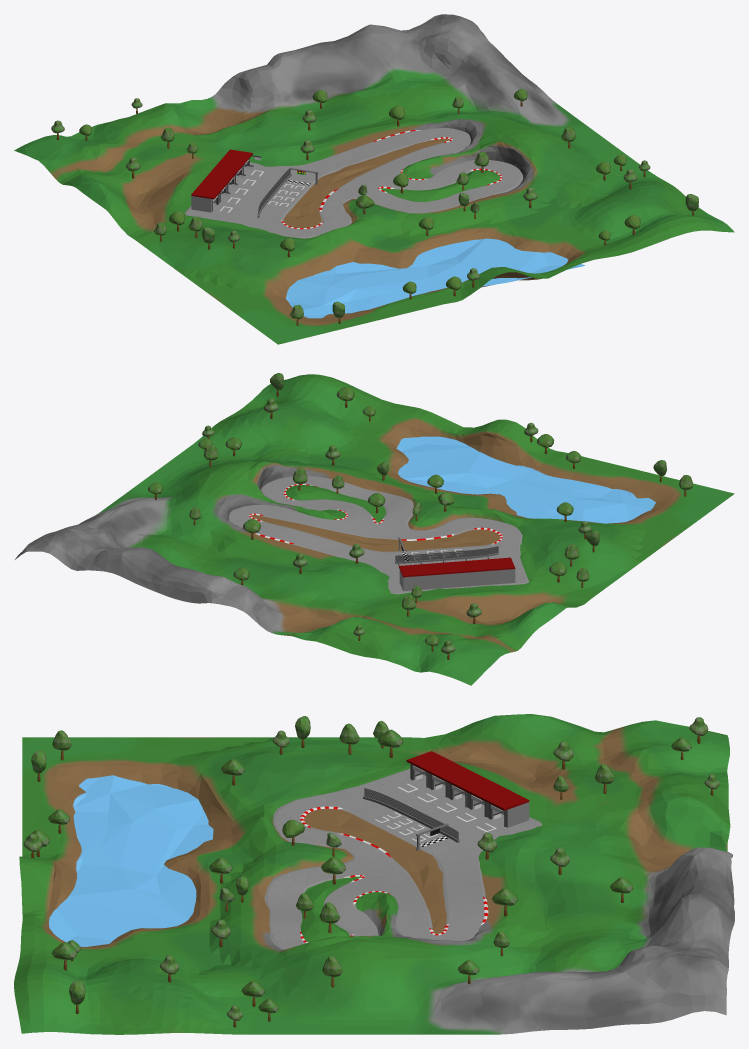
Rendered from low_poly_kart_racing_track.glb.
3 renders of one model, top to bottom at view 1: azimuth 30°, elevation 25°; view 2: azimuth 150°, elevation 25°; view 3: azimuth 270°, elevation 25°, orthographic. The views are drawn at different scales.
Parts seen in each view (by area): view 1: Ground, Track, Water, Cube.002, Pitstop, ETC; view 2: Ground, Track, Water, Cube.002, Pitstop, ETC; view 3: Ground, Track, Water, Cube.002, Pitstop, ETC.
Part boxes in pixels (x1=…): Ground: x1=14, y1=14, x2=734, y2=344; Track: x1=185, y1=128, x2=523, y2=238; Water: x1=286, y1=238, x2=585, y2=318; Cube.002: x1=51, y1=89, x2=698, y2=325; Pitstop: x1=191, y1=149, x2=261, y2=212; ETC: x1=220, y1=129, x2=502, y2=229; Ground: x1=15, y1=374, x2=734, y2=685; Track: x1=229, y1=475, x2=529, y2=594; Water: x1=396, y1=436, x2=655, y2=523; Cube.002: x1=148, y1=373, x2=692, y2=659; Pitstop: x1=398, y1=557, x2=515, y2=590; ETC: x1=249, y1=484, x2=502, y2=563; Ground: x1=14, y1=714, x2=734, y2=1034; Track: x1=264, y1=768, x2=541, y2=949; Water: x1=49, y1=775, x2=213, y2=946; Cube.002: x1=23, y1=716, x2=719, y2=1027; Pitstop: x1=406, y1=751, x2=529, y2=827; ETC: x1=300, y1=783, x2=496, y2=943.
Bounding box in the file's own units: 50.62 × 6.82 × 51.19.
Materials: 5 (5 with a texture image).
